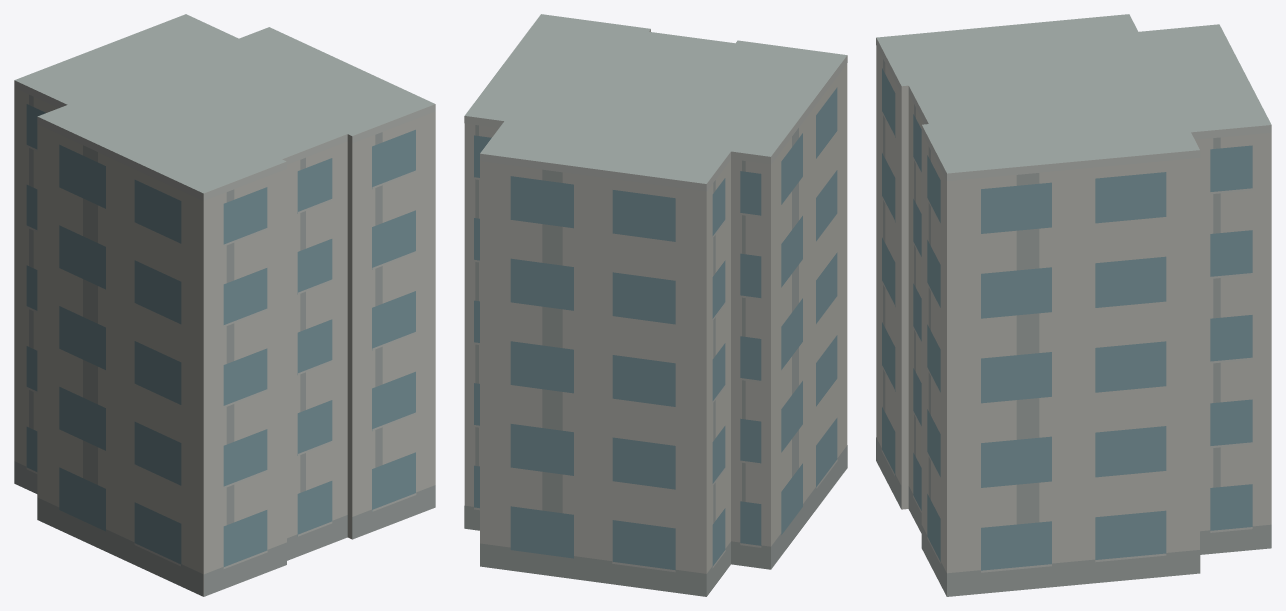
File: residential-4e1df6f5-da58-489d-a749-6c1a3dc32d5f.glb
3 views of the same model, side by side, from view 1: azimuth 30°, elevation 25°; view 2: azimuth 150°, elevation 25°; view 3: azimuth 270°, elevation 25° (orthographic). The views are drawn at different scales.
Parts seen in each view (by area): view 1: residential-4e1df6f5-da58-489d-a749-6c1a3dc32d5f.tmp; view 2: residential-4e1df6f5-da58-489d-a749-6c1a3dc32d5f.tmp; view 3: residential-4e1df6f5-da58-489d-a749-6c1a3dc32d5f.tmp.
Boxes of the visible parts, left/top/right/bottom form: residential-4e1df6f5-da58-489d-a749-6c1a3dc32d5f.tmp: left=14, top=14, right=435, bottom=596; residential-4e1df6f5-da58-489d-a749-6c1a3dc32d5f.tmp: left=464, top=14, right=847, bottom=596; residential-4e1df6f5-da58-489d-a749-6c1a3dc32d5f.tmp: left=876, top=14, right=1271, bottom=596.
Size of the model in its own units: 10.64 by 13.15 by 11.14.
